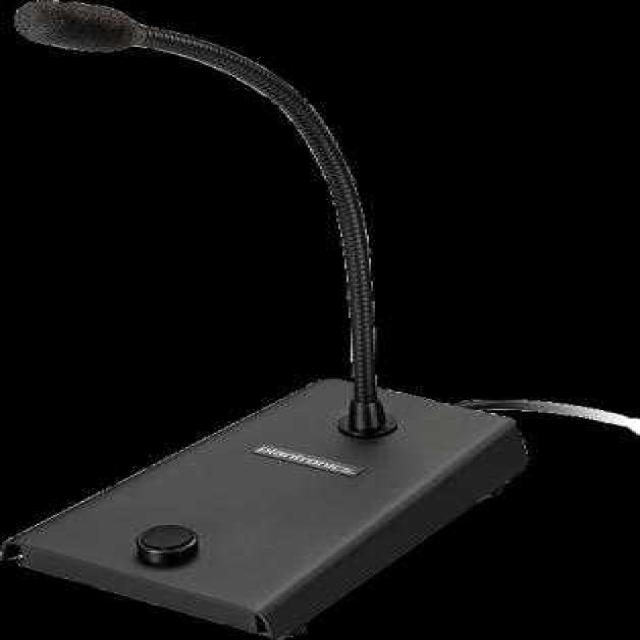microphone: (1, 12, 518, 630), (14, 2, 296, 96), (17, 0, 141, 53)
